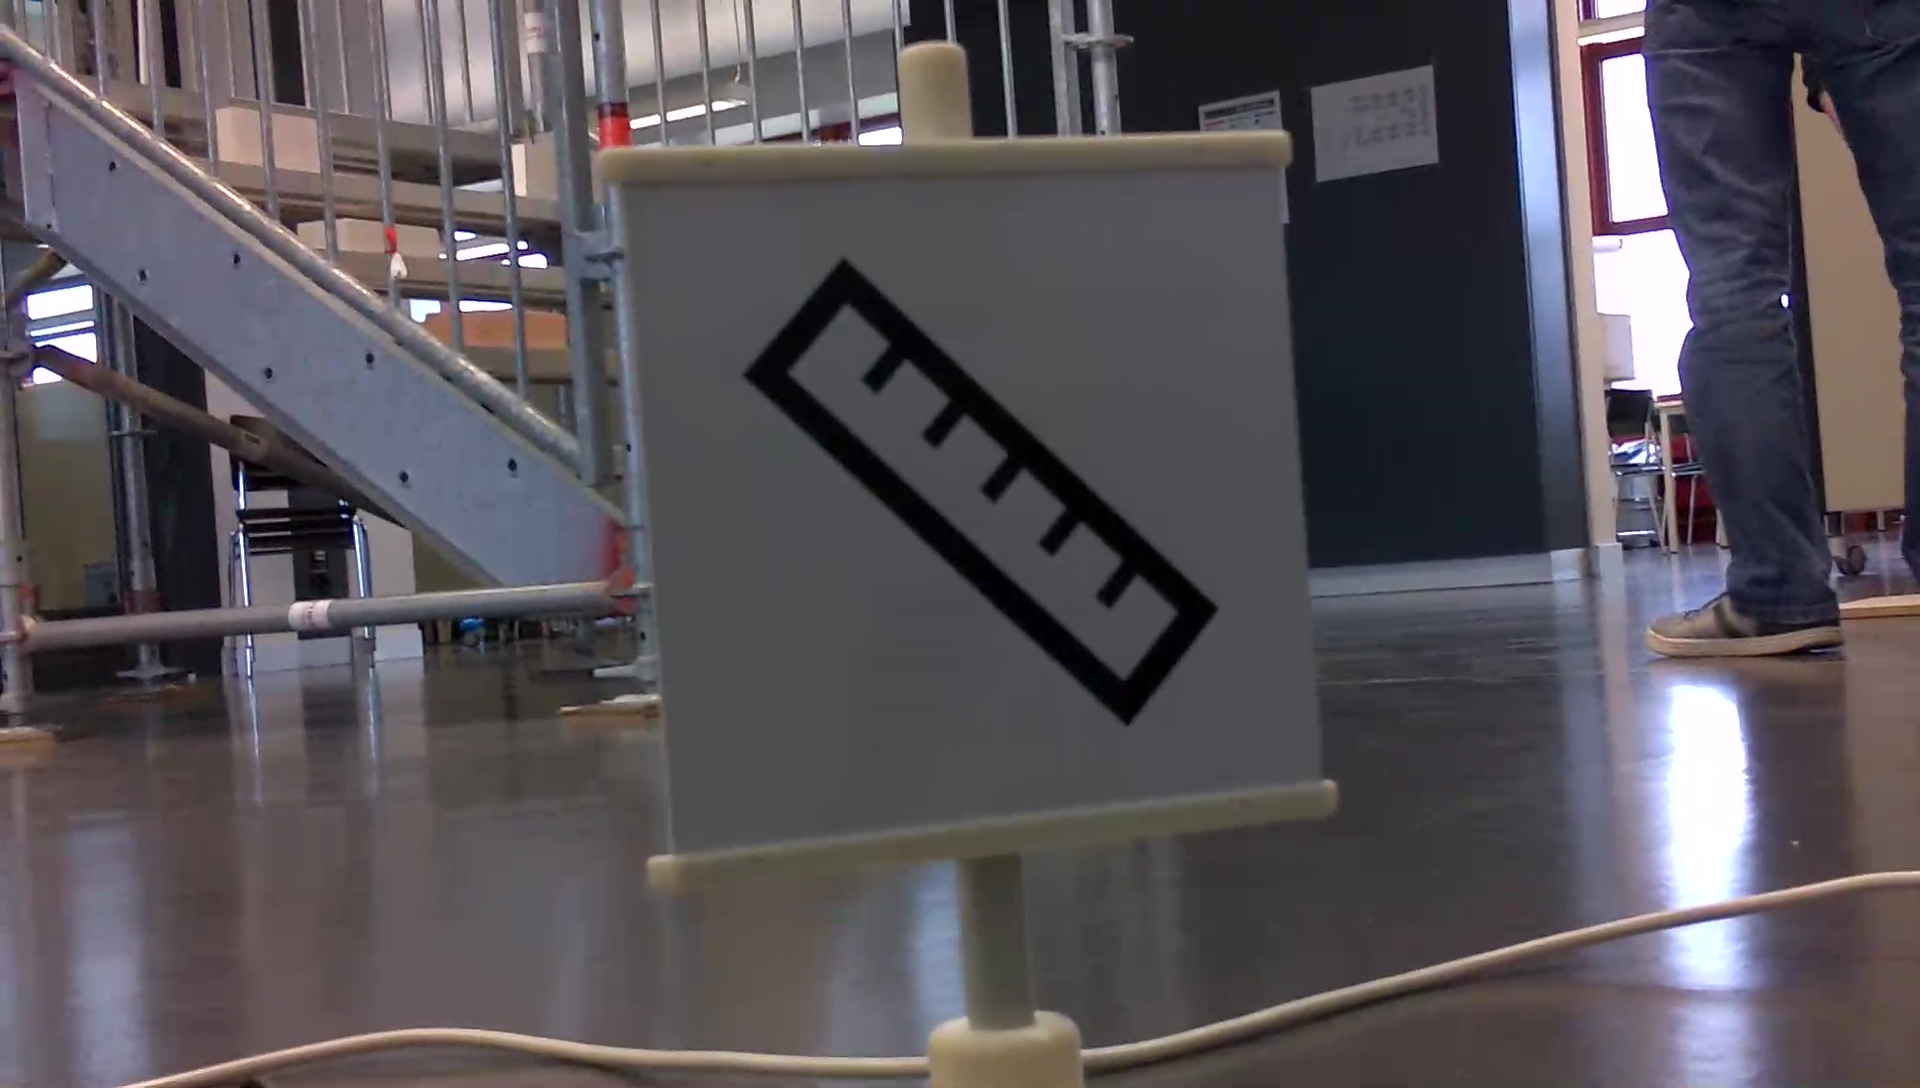ruler: (740, 236, 1232, 745)
